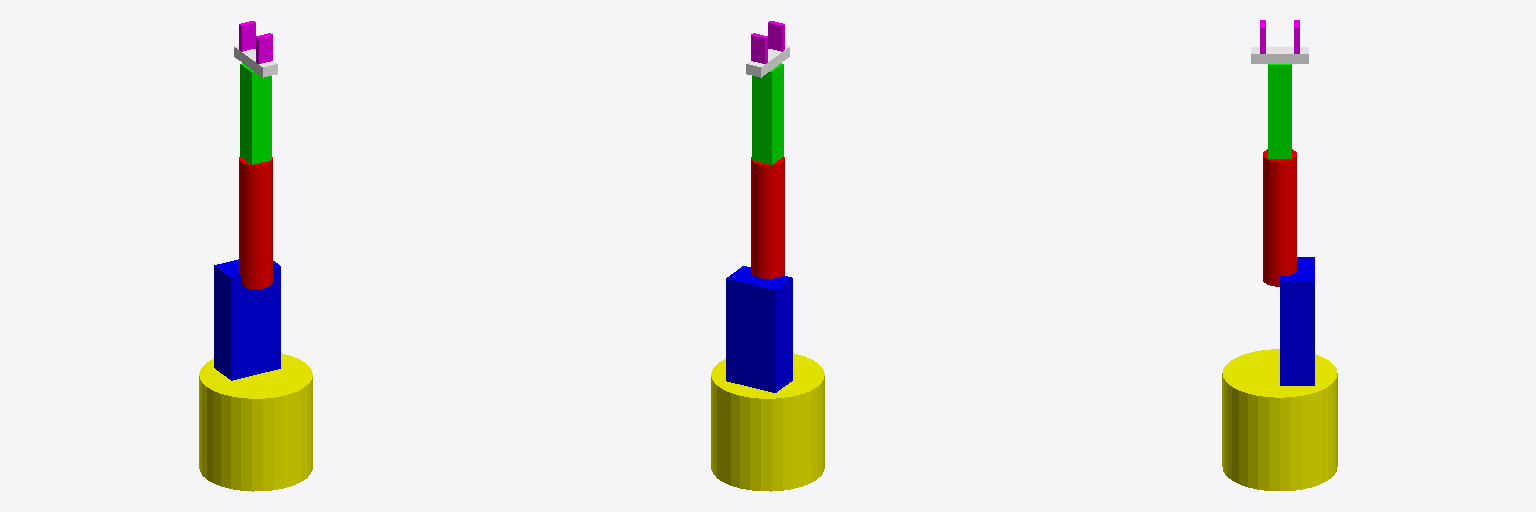
The robot description file, URDF, robot "myarm":
<?xml version="1.0"?>
<robot name="myarm">

  <link name="arm_base_link">
    <visual>
      <origin rpy="0 0 0" xyz="0 0 0.09"/>
      <geometry>
        <cylinder length="0.18" radius="0.1"/>
      </geometry>
      <material name="yellow">
        <color rgba="1 1 0 1"/>
      </material>
    </visual>
    <collision>
      <origin rpy="0 0 0" xyz="0 0 0.09"/>
      <geometry>
        <cylinder length="0.18" radius="0.1"/>
      </geometry>
    </collision>
    <inertial>
      <mass value="1"/>
      <inertia ixx="0.0052" ixy="0.0" ixz="0.0" iyy="0.0052" iyz="0.0" izz="0.005"/>
    </inertial>
  </link>

  <joint name="arm_joint1" type="revolute">
    <parent link="arm_base_link"/>
    <child link="arm_link1"/>
    <origin rpy="0 0 0" xyz="0 0 0.18"/>
    <axis xyz="0 0 1" />
    <limit effort="300" velocity="0.6" lower="-2.96" upper="2.96"/>
    <dynamics damping="50" friction="1"/>
  </joint>

  <link name="arm_link1">
    <visual>
      <geometry>
        <box size="0.1 0.06 0.2"/>
      </geometry>
      <origin rpy="0 0 0" xyz="0 0.03 0.1"/>
      <material name="blue">
        <color rgba="0 0 1 1"/>
      </material>
    </visual>
    <collision>
      <geometry>
        <box size="0.1 0.06 0.2"/>
      </geometry>
      <origin rpy="0 0 0" xyz="0 0.03 0.1"/>
    </collision>
    <inertial>
      <mass value="1"/>
      <inertia ixx="0.004167" ixy="0.0" ixz="0.0" iyy="0.001133" iyz="0.0" izz="0.003633"/>
    </inertial>
  </link>
  <joint name="arm_joint2" type="revolute">
    <parent link="arm_link1"/>
    <child link="arm_link2"/>
    <origin rpy="0 0 0" xyz="0 0 0.18"/>
    <axis xyz="0 1 0" />
    <limit effort="300" velocity="0.6" lower="-2.09" upper="2.09"/>
    <dynamics damping="50" friction="1"/>
  </joint>

  <link name="arm_link2">
    <visual>
      <geometry>
        <cylinder length="0.24" radius="0.03"/>
      </geometry>
      <origin rpy="0 0 0" xyz="0 0 0.12"/>
      <material name="red">
        <color rgba="1 0 0 1"/>
      </material>
    </visual>
    <collision>
      <geometry>
        <cylinder length="0.24" radius="0.03"/>
      </geometry>
      <origin rpy="0 0 0" xyz="0 0 0.12"/>
    </collision>
    <inertial>
      <mass value="1"/>
      <inertia ixx="0.005025" ixy="0.0" ixz="0.0" iyy="0.005025" iyz="0.0" izz="0.00045"/>
    </inertial>
  </link>

  <joint name="arm_joint3" type="revolute">
    <parent link="arm_link2"/>
    <child link="arm_link3"/>
    <origin rpy="0 0 0" xyz="0 0 0.24"/>
    <axis xyz="0 1 0" />
    <limit effort="300" velocity="0.6" lower="-2.09" upper="2.09"/>
    <dynamics damping="50" friction="1"/>
  </joint>

  <link name="arm_link3">
    <visual>
      <geometry>
        <box size="0.04 0.04 0.18"/>
      </geometry>
      <origin rpy="0 0 0" xyz="0 0 0.09"/>
      <material name="green">
        <color rgba="0 1 0 1"/>
      </material>
    </visual>
    <collision>
      <geometry>
        <box size="0.04 0.04 0.18"/>
      </geometry>
      <origin rpy="0 0 0" xyz="0 0 0.09"/>
    </collision>
    <inertial>
      <mass value="1"/>
      <inertia ixx="0.002833" ixy="0.0" ixz="0.0" iyy="0.000267" iyz="0.0" izz="0.002833"/>
    </inertial>
  </link>
  <joint name="gripper_base_joint" type="fixed">
    <parent link="arm_link3"/>
    <child link="gripper_base_link"/>
    <origin rpy="0 0 0" xyz="0 0 0.18"/>
  </joint>

  <link name="gripper_base_link">
    <visual>
      <geometry>
        <box size="0.03 0.1 0.02"/>
      </geometry>
      <origin rpy="0 0 0" xyz="0 0 0.01"/>
      <material name="white">
        <color rgba="1 1 1 1"/>
      </material>
    </visual>
    <collision>
      <geometry>
        <box size="0.03 0.1 0.02"/>
      </geometry>
      <origin rpy="0 0 0" xyz="0 0 0.01"/>
    </collision>
    <inertial>
      <mass value="1"/>
      <inertia ixx="0.000108" ixy="0.0" ixz="0.0" iyy="0.000083" iyz="0.0" izz="0.000867"/>
    </inertial>
  </link>
  <joint name="finger1_joint" type="prismatic">
    <parent link="gripper_base_link"/>
    <child link="finger1_link"/>
    <origin rpy="0 0 0" xyz="0 0.03 0.02"/>
    <axis xyz="0 1 0" />
    <limit effort="300" velocity="0.6" lower="-0.025" upper="0.01"/>
    <dynamics damping="50" friction="1"/>
  </joint>

  <link name="finger1_link">
    <visual>
      <geometry>
        <box size="0.03 0.01 0.05"/>
      </geometry>
      <origin rpy="0 0 0" xyz="0 0 0.025"/>
      <material name="purple">
        <color rgba="1 0 1 1"/>
      </material>
    </visual>
    <collision>
      <geometry>
        <box size="0.03 0.01 0.05"/>
      </geometry>
      <origin rpy="0 0 0" xyz="0 0 0.025"/>
    </collision>
    <inertial>
      <mass value="1"/>
      <inertia ixx="0.000283" ixy="0.0" ixz="0.0" iyy="0.000083" iyz="0.0" izz="0.000217"/>
    </inertial>
  </link>

  <joint name="finger2_joint" type="prismatic">
    <parent link="gripper_base_link"/>
    <child link="finger2_link"/>
    <origin rpy="0 0 0" xyz="0 -0.03 0.02"/>
    <axis xyz="0 1 0" />
    <limit effort="300" velocity="0.6" lower="-0.01" upper="0.025"/>
    <dynamics damping="50" friction="1"/>
    <mimic joint="finger1_joint" multiplier="-1"/>
  </joint>

  <link name="finger2_link">
    <visual>
      <geometry>
        <box size="0.03 0.01 0.05"/>
      </geometry>
      <origin rpy="0 0 0" xyz="0 0 0.025"/>
      <material name="purple">
        <color rgba="1 0 1 1"/>
      </material>
    </visual>
    <collision>
      <geometry>
        <box size="0.03 0.01 0.05"/>
      </geometry>
      <origin rpy="0 0 0" xyz="0 0 0.025"/>
    </collision>
    <inertial>
      <mass value="1"/>
      <inertia ixx="0.000283" ixy="0.0" ixz="0.0" iyy="0.000083" iyz="0.0" izz="0.000217"/>
    </inertial>
  </link>
  <joint name="gripper_centor_joint" type="fixed">
    <parent link="gripper_base_link"/>
    <child link="gripper_centor_link"/>
    <origin rpy="0 0 0" xyz="0 0 0.045"/>
  </joint>

  <link name="gripper_centor_link" />



</robot>

--- Facts derived from the render (not from the file) ---
The picture shows the robot from 3 angles, left to right: view 1: azimuth 30°, elevation 25°; view 2: azimuth 150°, elevation 25°; view 3: azimuth 270°, elevation 25°; orthographic projection.
Robot: myarm — 8 links, 7 joints (3 revolute, 2 prismatic, 2 fixed); root link arm_base_link; default pose: all joints at 0.
Visible links, largest first — view 1: arm_base_link, arm_link1, arm_link2, arm_link3, gripper_base_link; view 2: arm_base_link, arm_link1, arm_link2, arm_link3, gripper_base_link; view 3: arm_base_link, arm_link1, arm_link2, arm_link3, gripper_base_link.
Boxes of the visible links, left/top/right/bottom form: arm_base_link: left=199, top=353, right=312, bottom=491; arm_link1: left=214, top=259, right=280, bottom=380; arm_link2: left=239, top=157, right=272, bottom=288; arm_link3: left=240, top=63, right=271, bottom=164; gripper_base_link: left=234, top=46, right=277, bottom=77; arm_base_link: left=711, top=353, right=824, bottom=491; arm_link1: left=726, top=266, right=792, bottom=392; arm_link2: left=751, top=157, right=784, bottom=278; arm_link3: left=752, top=63, right=783, bottom=164; gripper_base_link: left=746, top=46, right=789, bottom=77; arm_base_link: left=1222, top=349, right=1337, bottom=490; arm_link1: left=1280, top=257, right=1314, bottom=385; arm_link2: left=1263, top=149, right=1296, bottom=286; arm_link3: left=1268, top=64, right=1291, bottom=158; gripper_base_link: left=1251, top=47, right=1308, bottom=63.
Bounding box of the posed robot: 0.2 × 0.2 × 0.85 m (x, y, z).
Geometry: primitives only (box / cylinder / sphere), no mesh files.